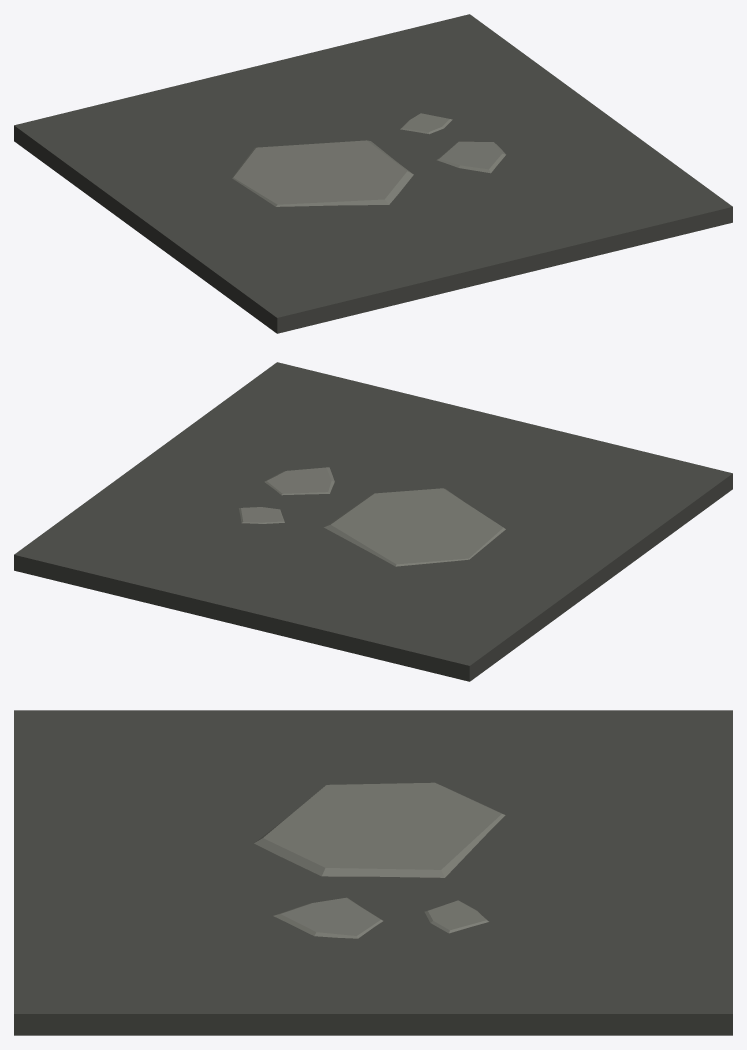
File: floor_2.glb
The picture shows the model from 3 angles, top to bottom: view 1: azimuth 30°, elevation 25°; view 2: azimuth 150°, elevation 25°; view 3: azimuth 270°, elevation 25°; orthographic projection. The views are drawn at different scales.
Parts seen in each view (by area): view 1: Floor_2; view 2: Floor_2; view 3: Floor_2.
Boxes of the visible parts, x1=… form: Floor_2: x1=14, y1=14, x2=732, y2=333; Floor_2: x1=14, y1=362, x2=732, y2=681; Floor_2: x1=14, y1=710, x2=732, y2=1035.
Bounding box in the file's own units: 3 × 0.1237 × 3.
Materials: 1 (1 with a texture image).
